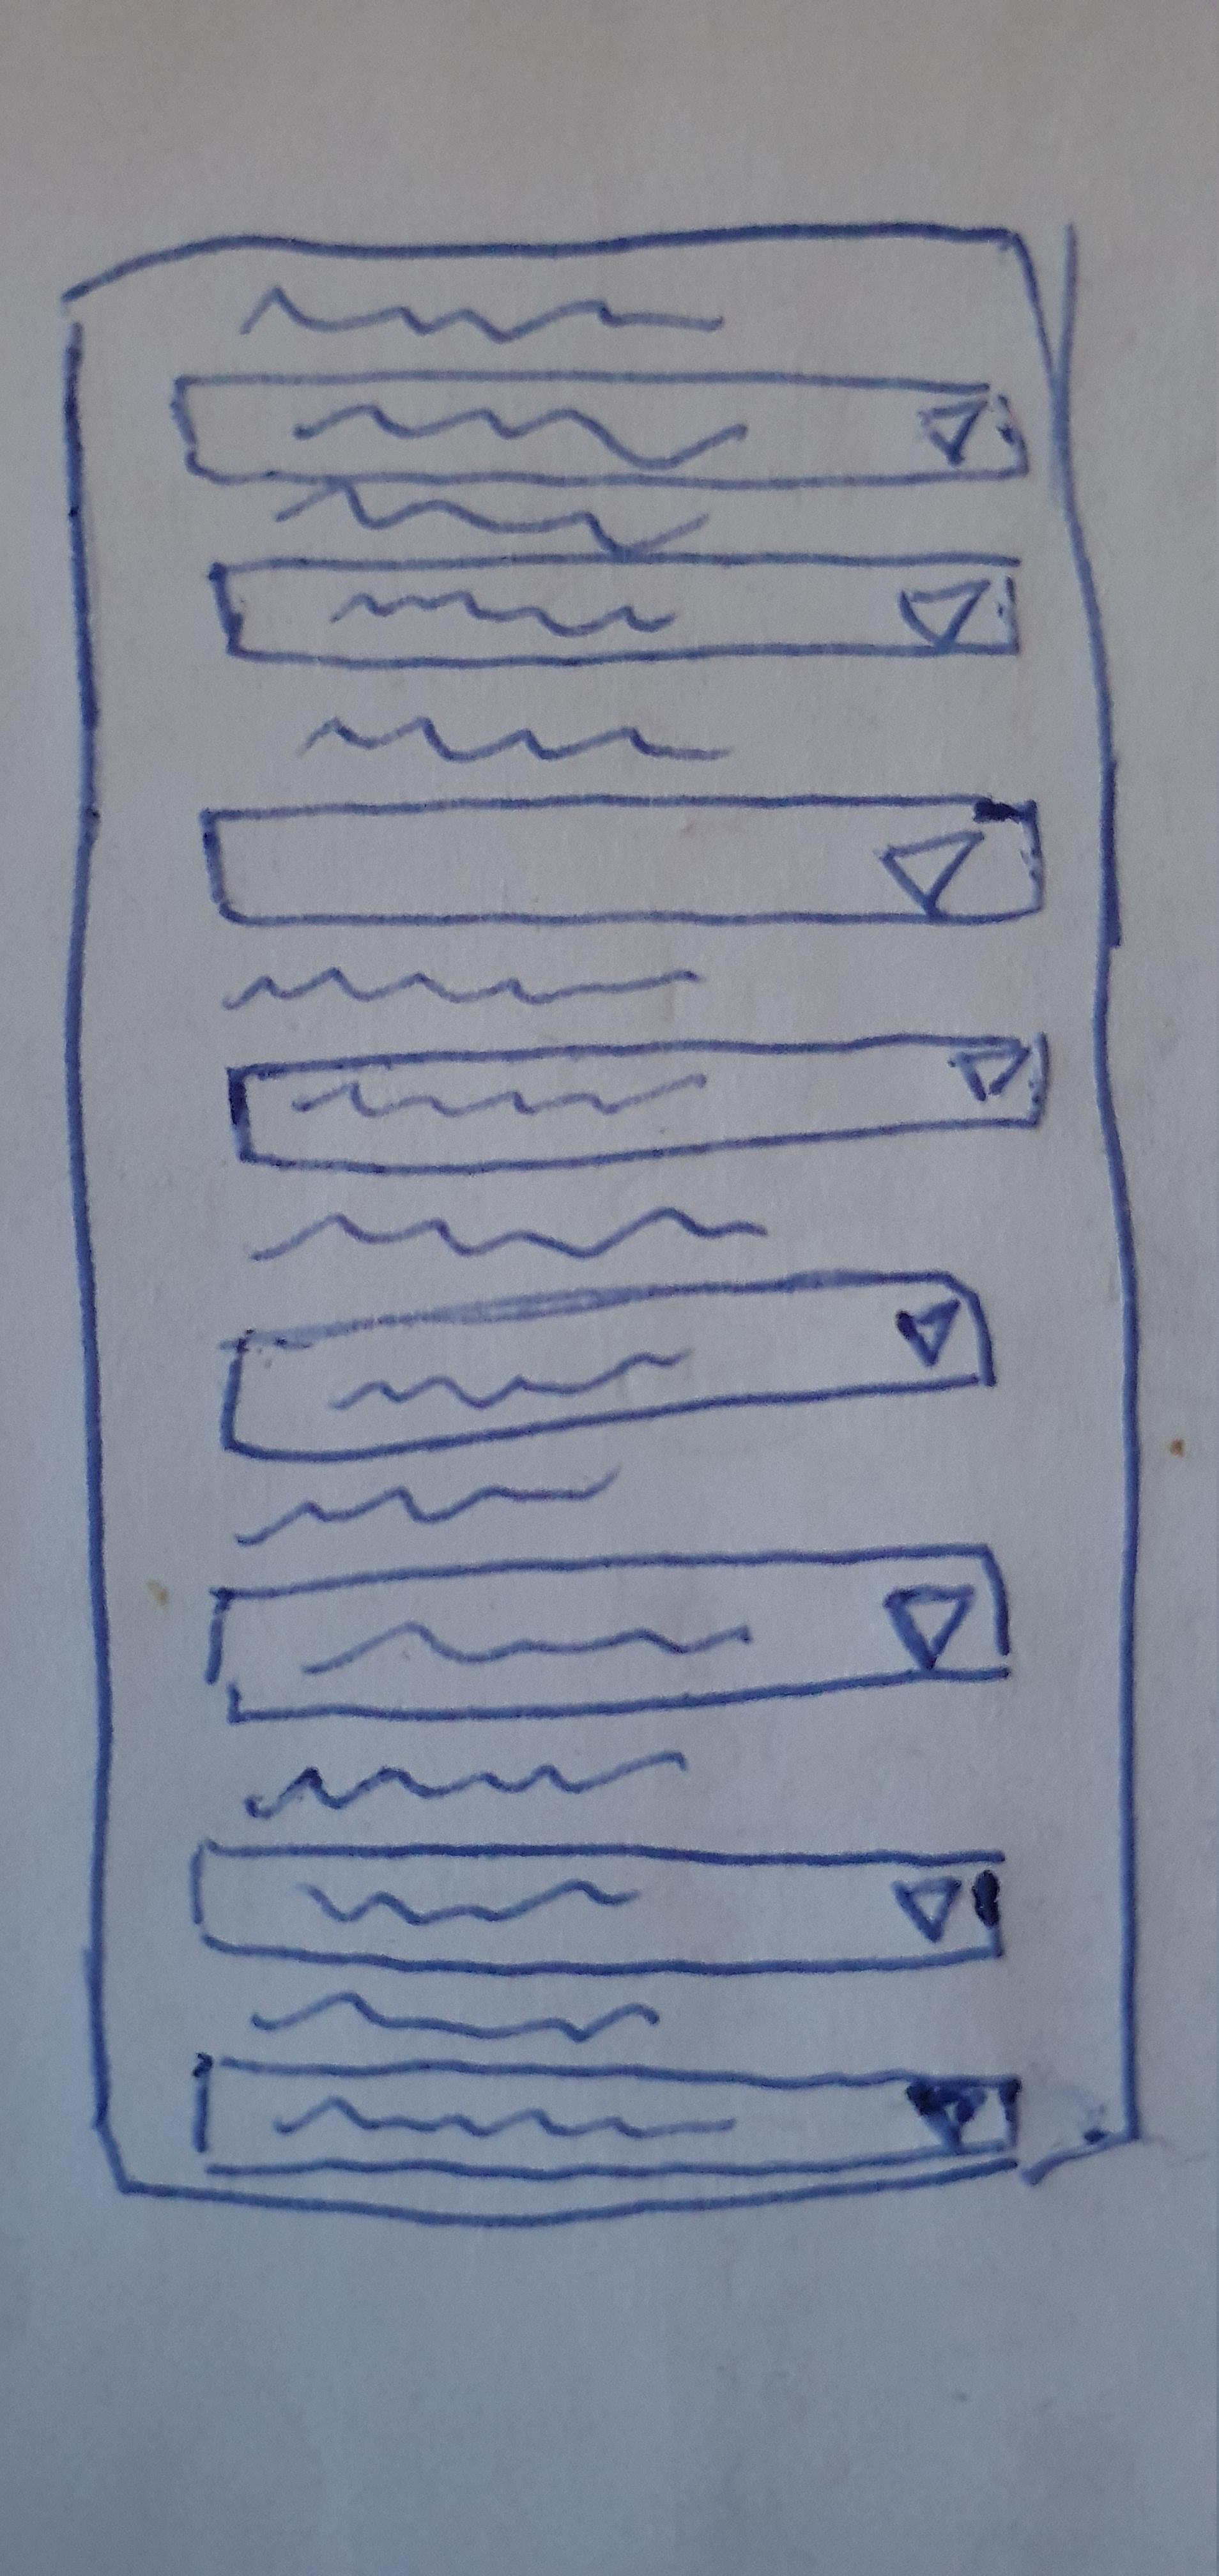Label: (279, 480, 712, 554), (243, 1750, 686, 1820), (256, 1205, 769, 1262), (233, 1470, 618, 1546), (239, 284, 724, 340), (251, 1983, 663, 2045), (297, 714, 737, 765), (224, 963, 698, 1009)
ListPicker: (221, 1266, 996, 1466), (205, 1542, 1012, 1728), (229, 1031, 1052, 1179), (199, 790, 1048, 929), (191, 1837, 1006, 1975), (187, 2051, 1020, 2181), (169, 368, 1034, 488), (207, 552, 1018, 670)
Screen: (61, 217, 1146, 2225)
